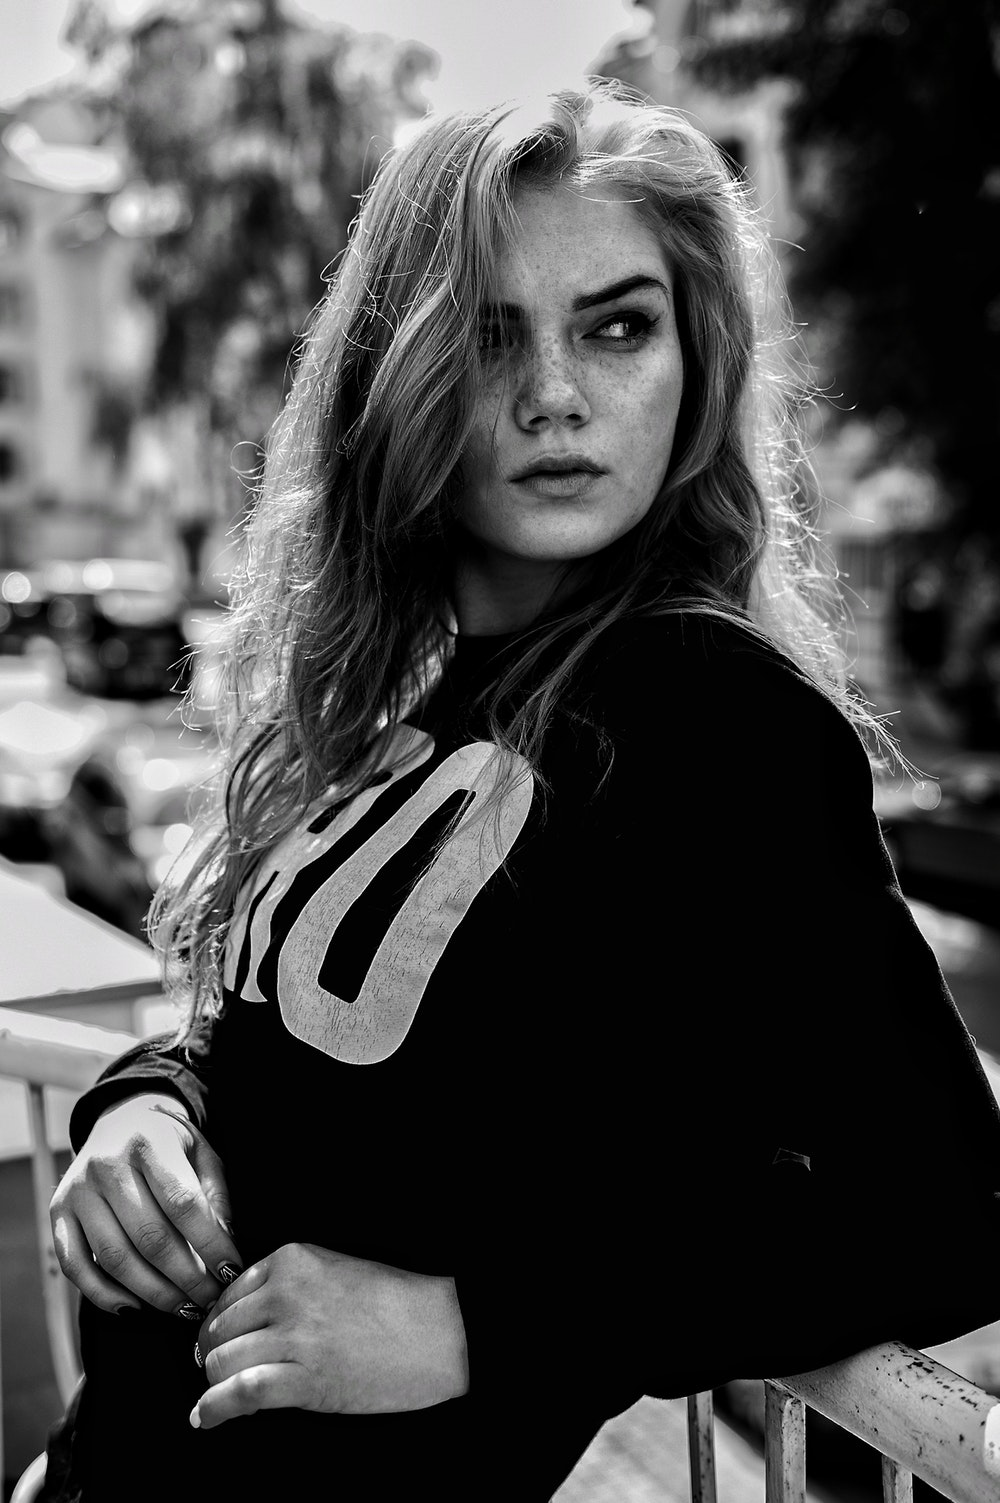GIRL: (353, 124, 762, 574)
